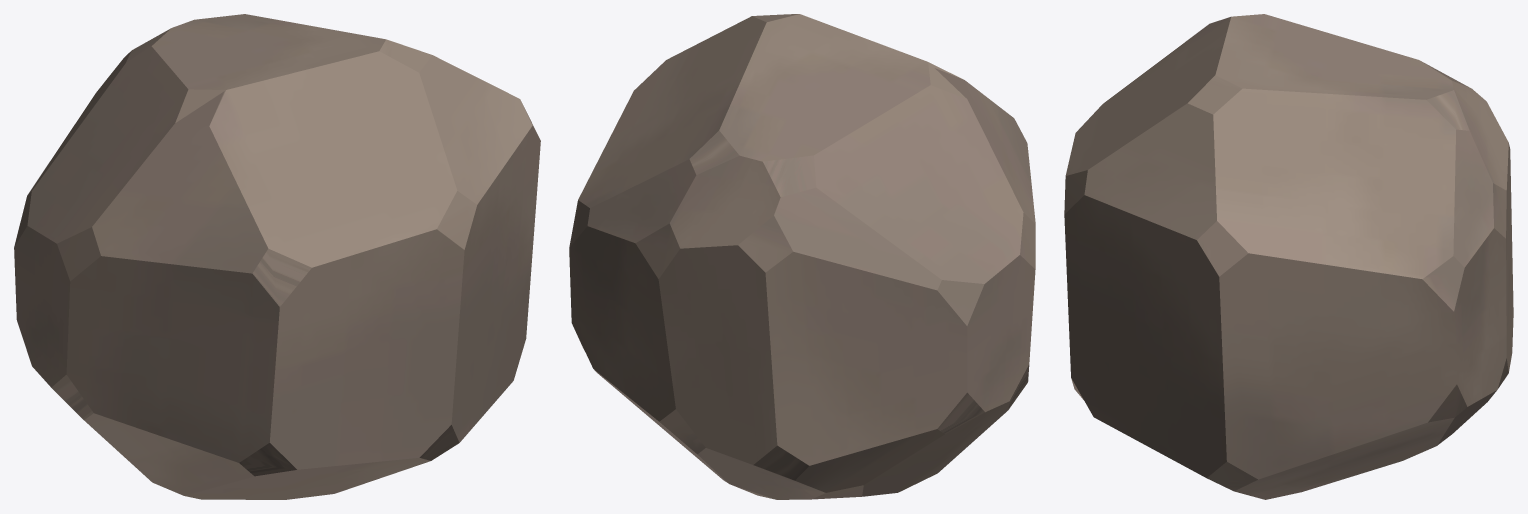
The model's file is rock.glb.
3 views of the same model, side by side, from view 1: azimuth 30°, elevation 25°; view 2: azimuth 150°, elevation 25°; view 3: azimuth 270°, elevation 25° (orthographic). The views are drawn at different scales.
Parts seen in each view (by area): view 1: Cube; view 2: Cube; view 3: Cube.
Boxes of the visible parts, box(x1,y1,x2,y2) form: Cube: box(14, 14, 540, 499); Cube: box(569, 14, 1035, 499); Cube: box(1064, 14, 1513, 499).
Size of the model in its own units: 2 by 1.97 by 1.83.
1 material, 1 textured.
